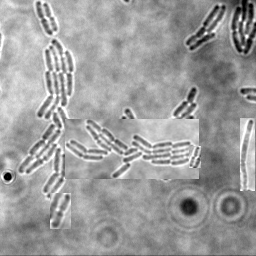Dividing: (240, 118, 255, 191), (50, 193, 71, 229), (34, 1, 52, 37), (41, 3, 57, 33), (189, 146, 201, 168)
Microcolony: (18, 40, 89, 199), (65, 119, 199, 179), (184, 5, 226, 52), (230, 1, 255, 56)
